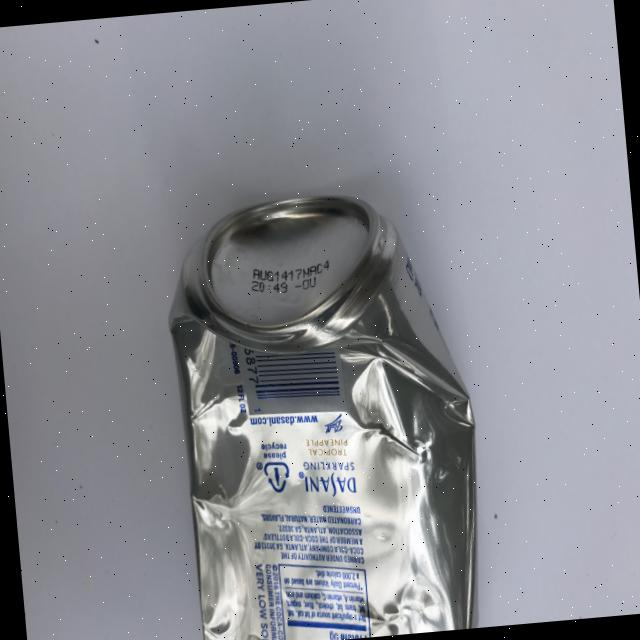metal: (157, 181, 493, 640)
